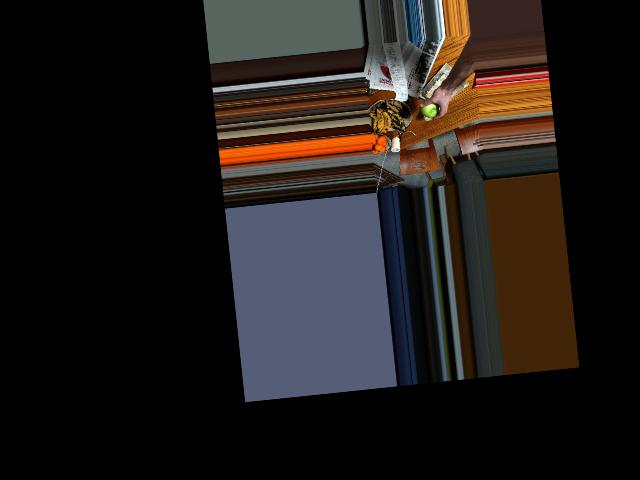apple: (419, 97, 441, 121)
